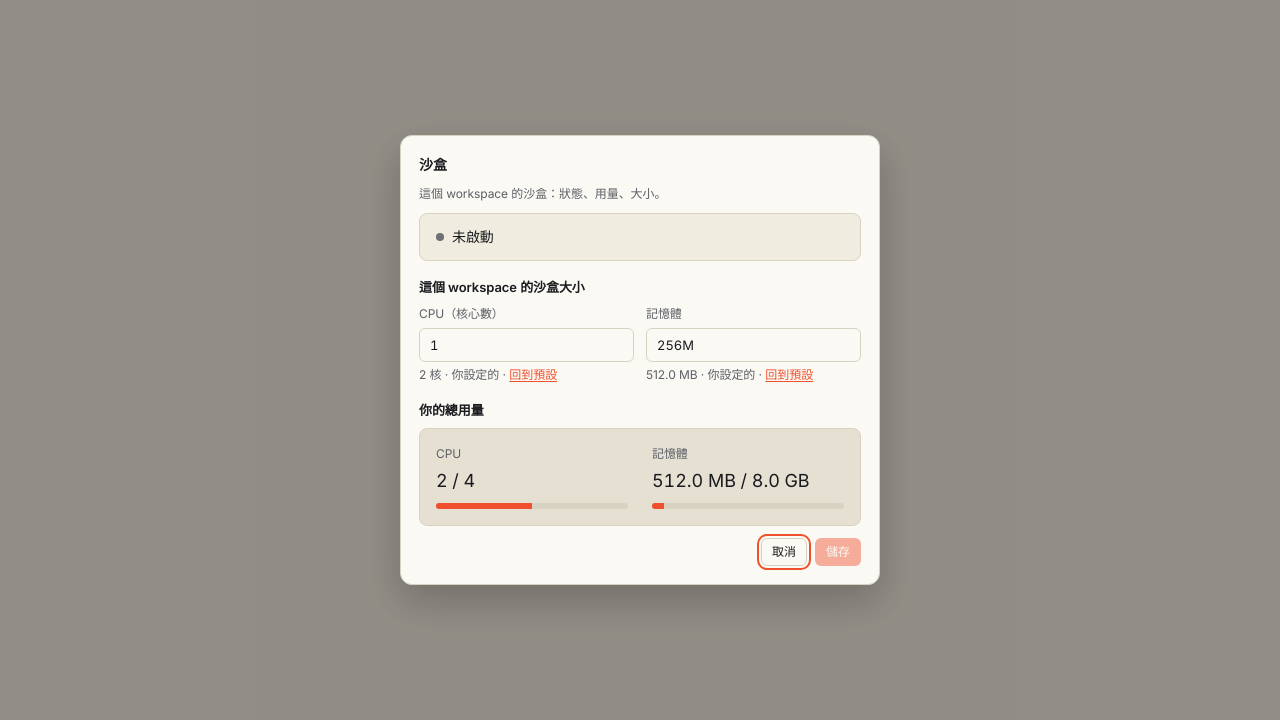
ItemEnvironmentModal — round 2 › keeps showing what was typed until the re-read lands — no flash of the old number after Save
This screenshot has width=1280, height=720.
Replace the text in the number field with test id "cpu-input" with "2" at (526, 345), box [419,328,634,362]
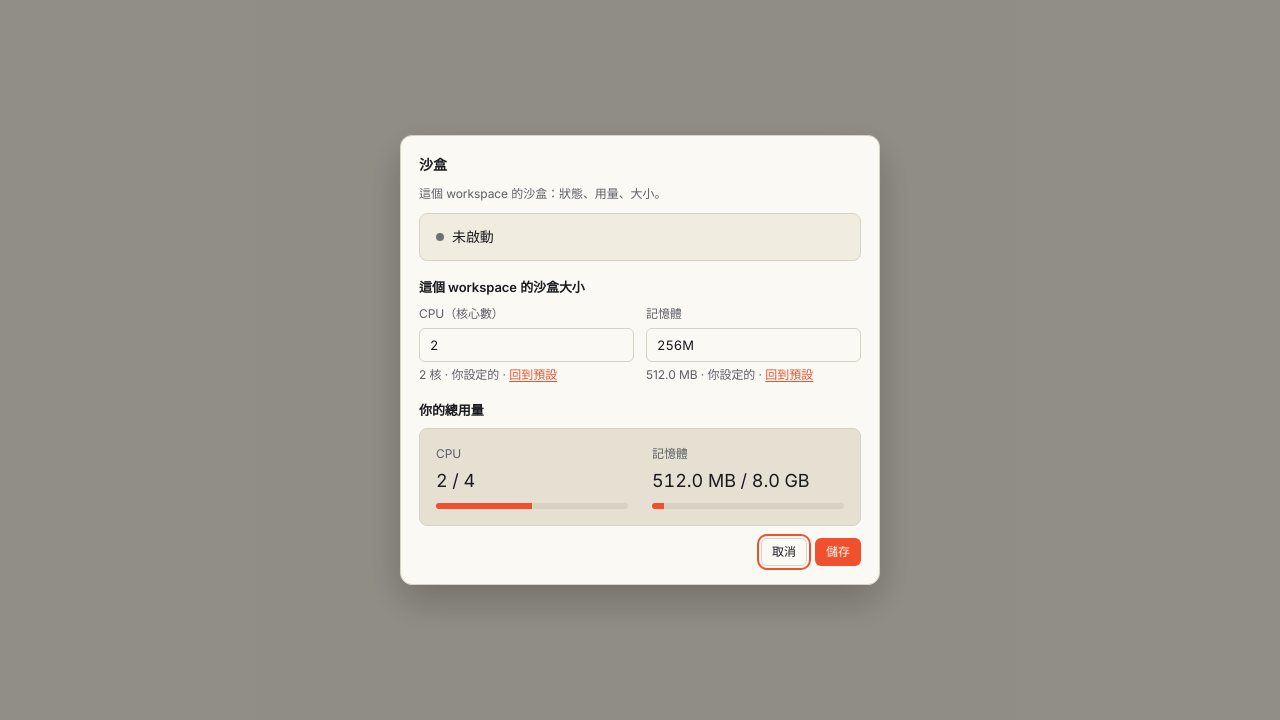
Click the button with test id "itemenv-save" at (838, 552), box [815,538,861,566]
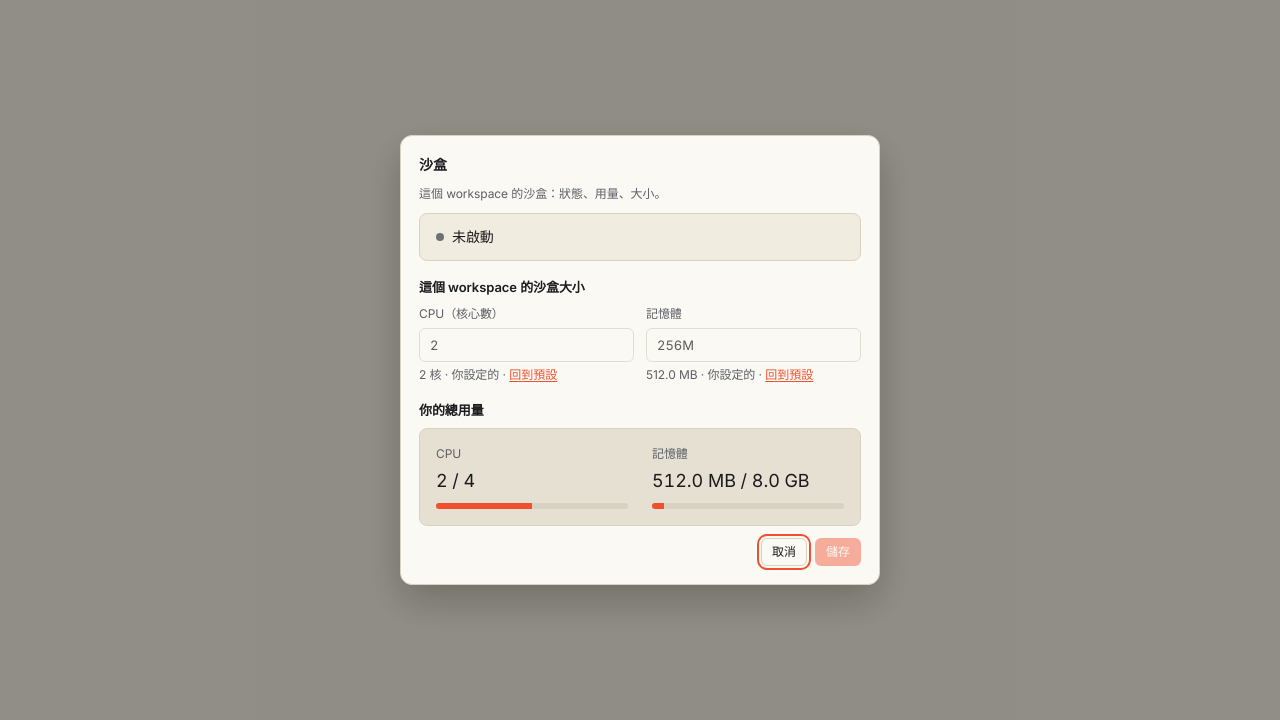
Expected: the number field with test id "cpu-input" is disabled, [419,328,634,362]
Now the button with test id "itemenv-save" is disabled, box [815,538,861,566]
